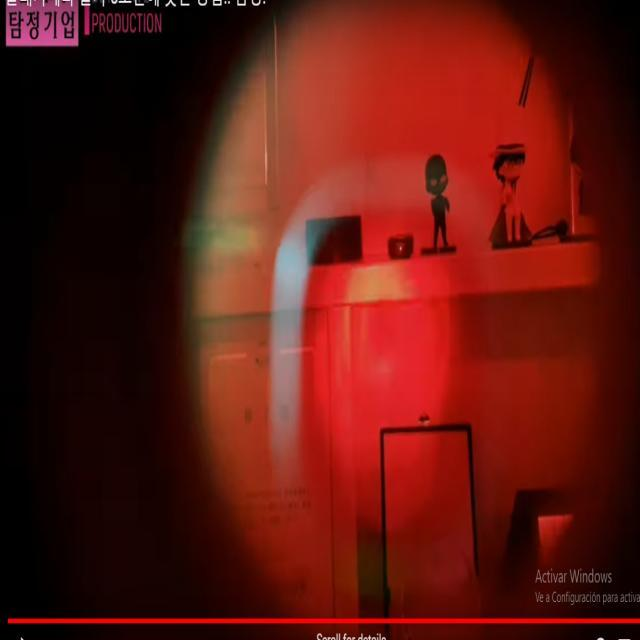hidden camera: (395, 241, 406, 252)
